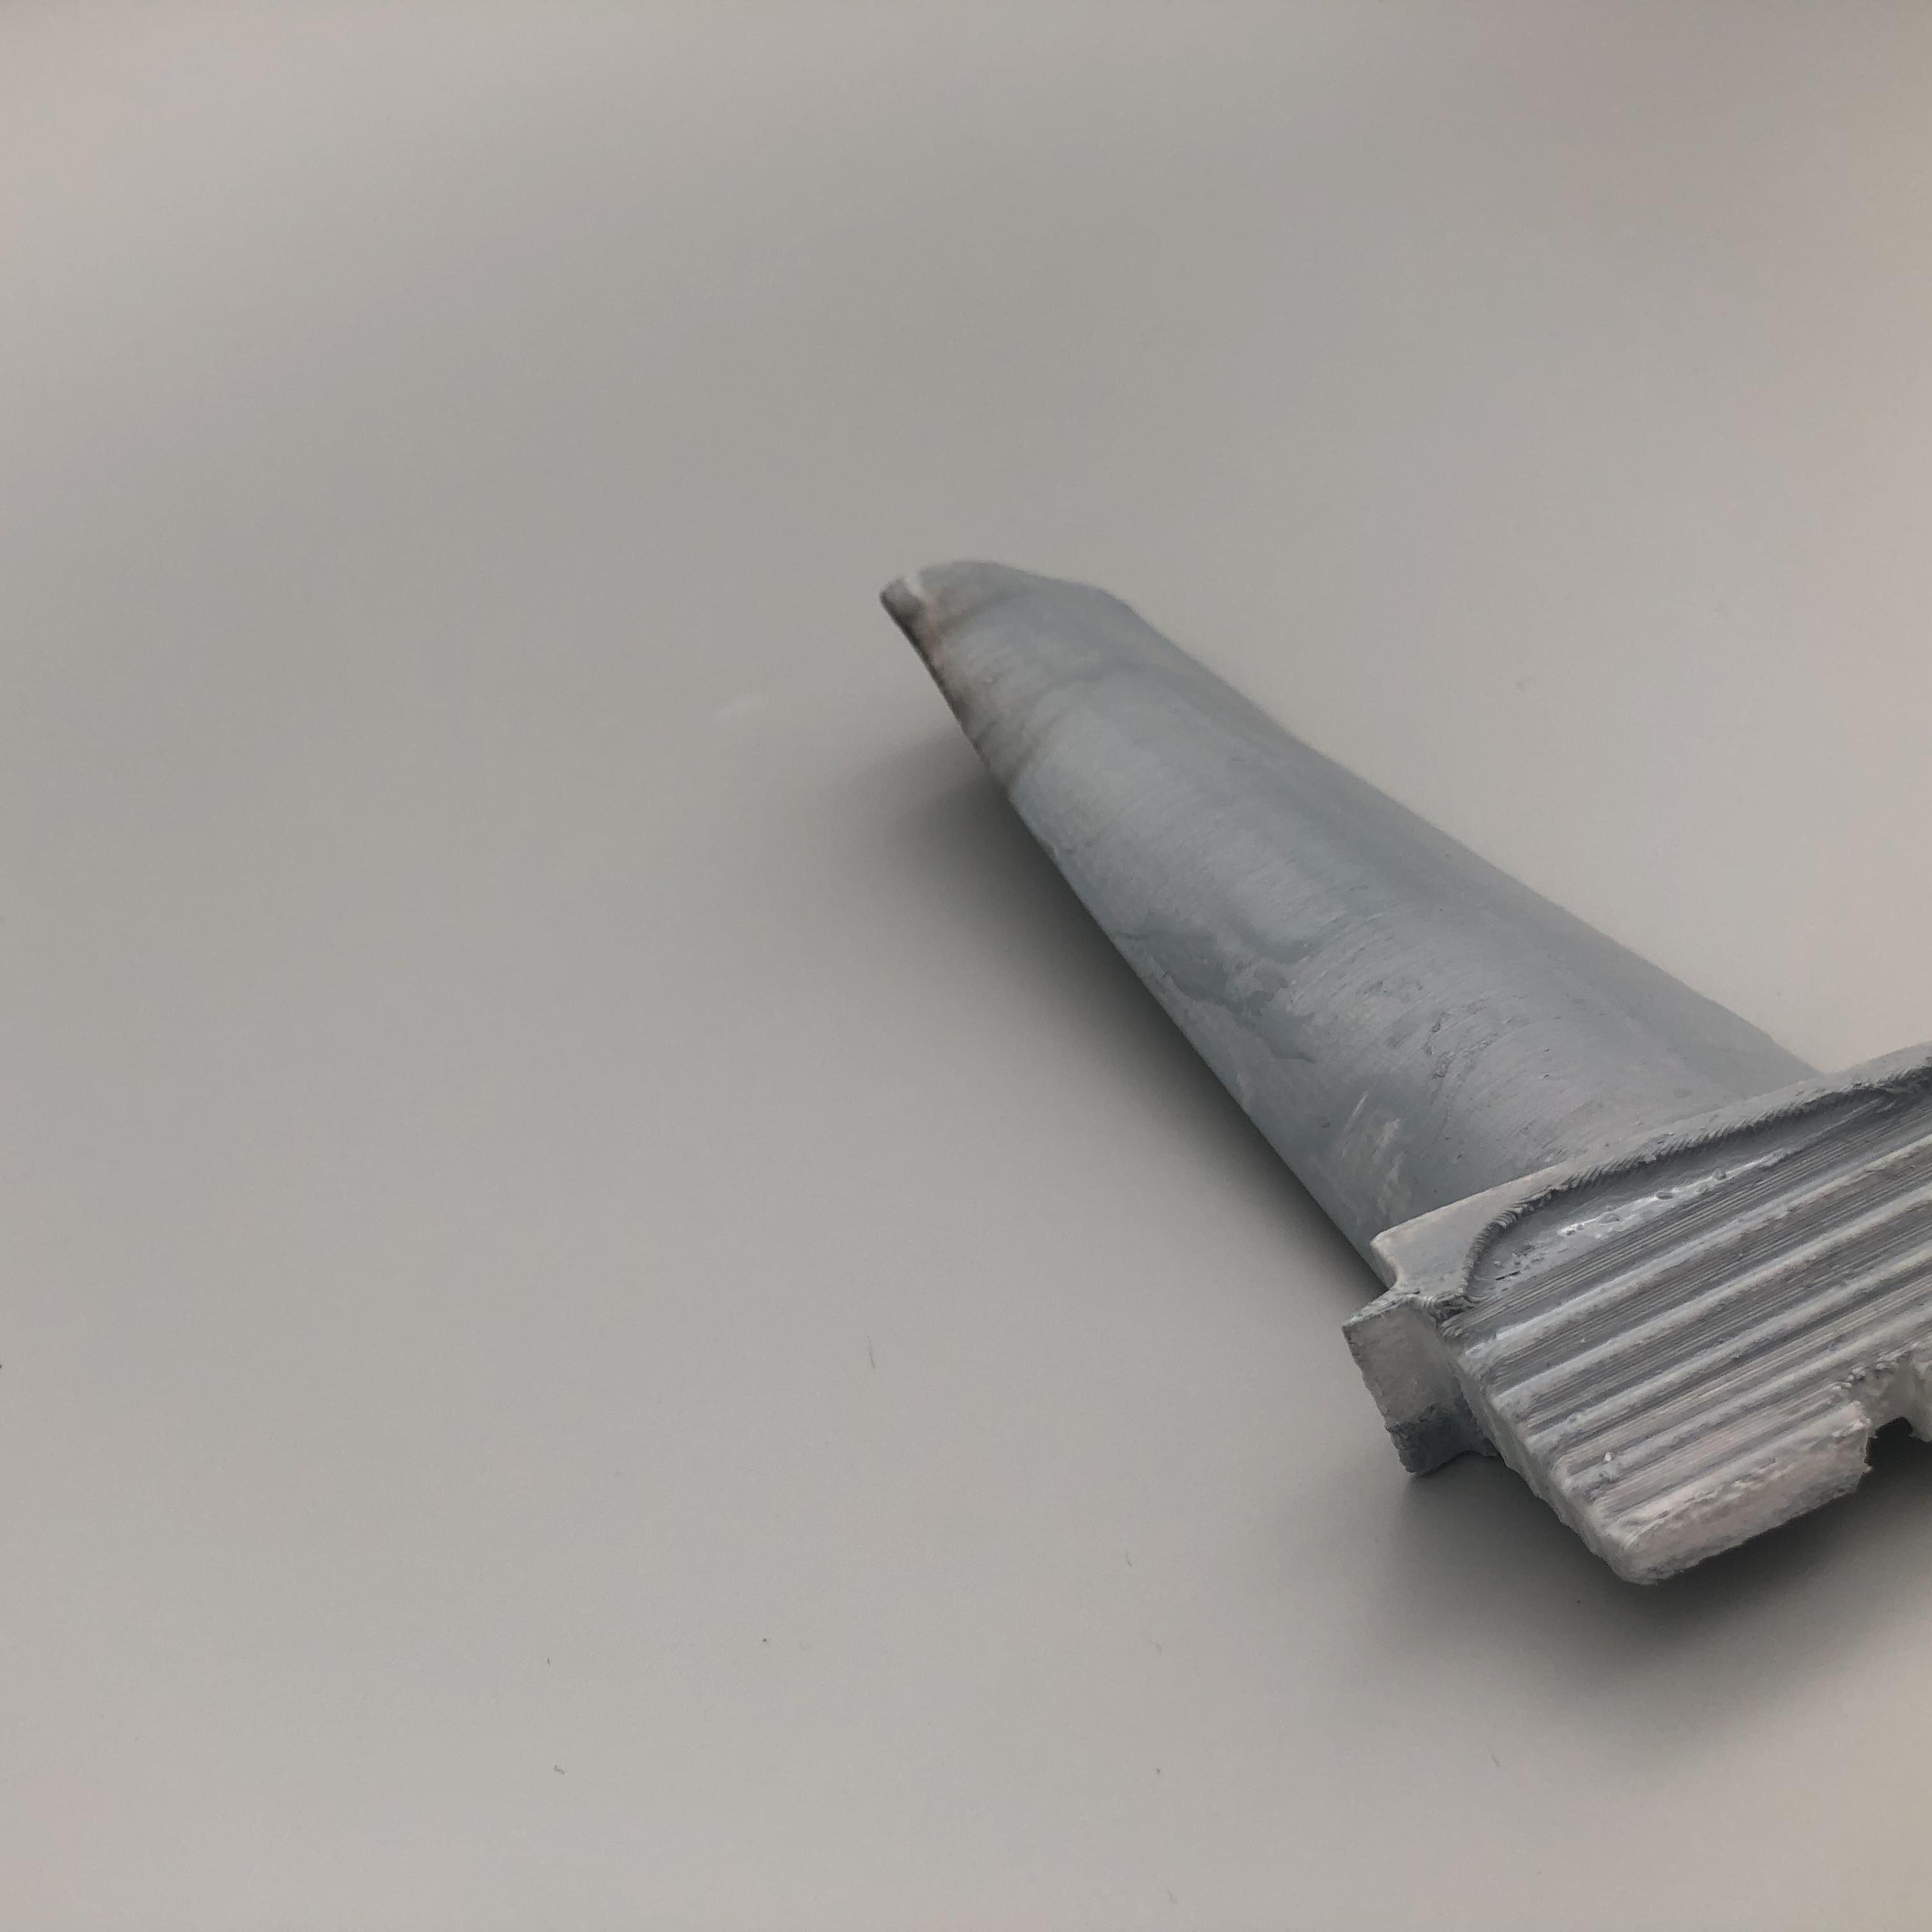ablation: (883, 580, 1019, 759)
